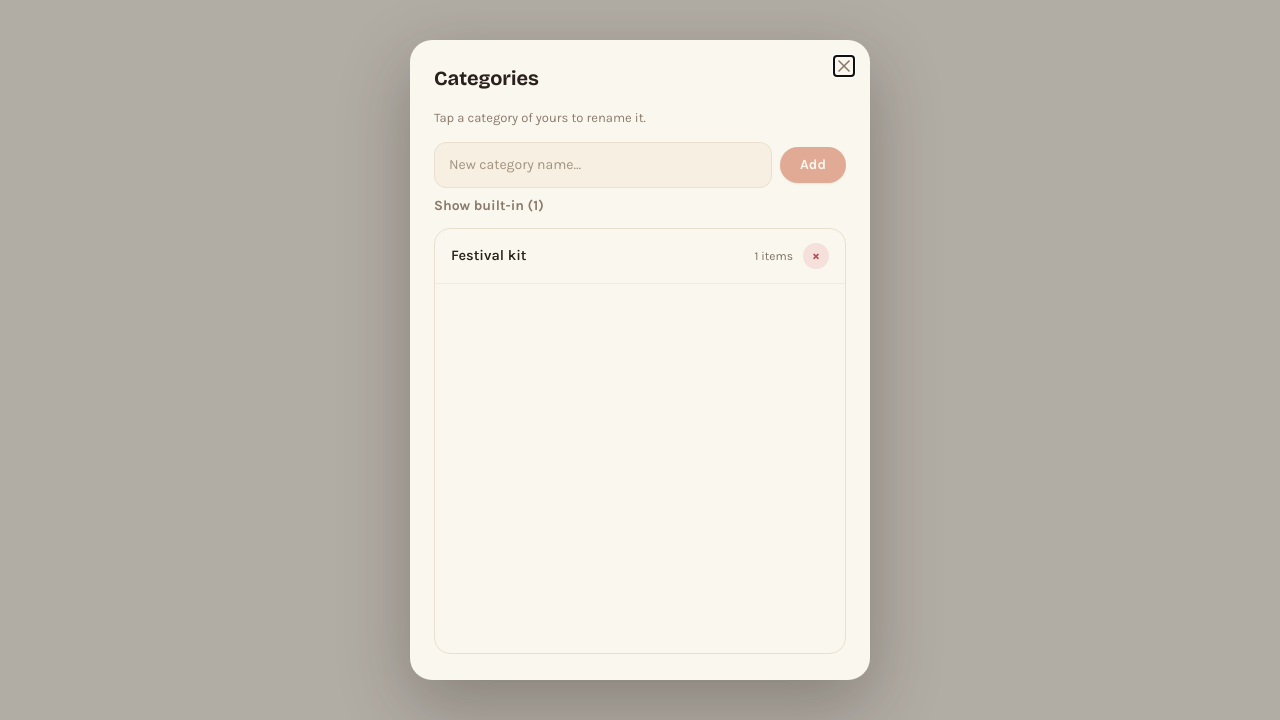
Test: CategoriesModal › clicking a user-owned row enters rename mode, hiding its delete icon; clicking another row switches which one is renaming
Click the text "Festival kit": [489, 255] box x1=451 y1=247 x2=526 y2=264
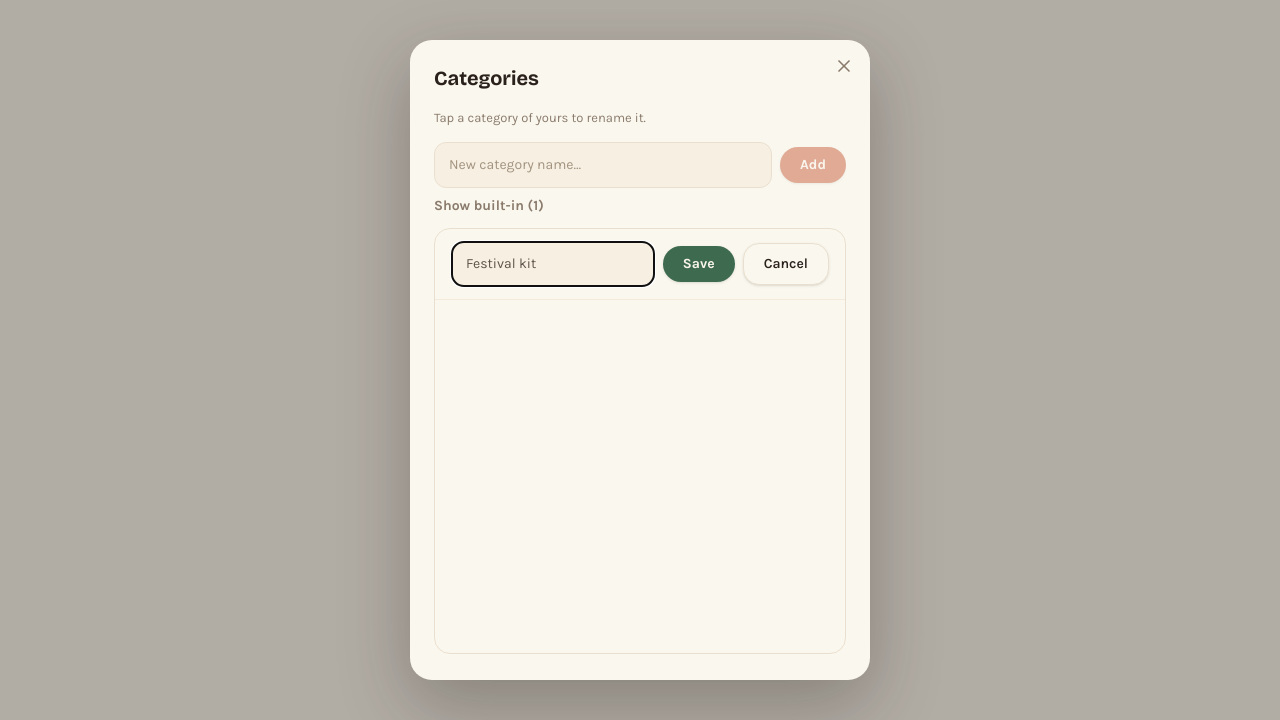
Expected: the field with placeholder "Category name" holds "Festival kit", x1=451 y1=240 x2=655 y2=286
Expected: the button "Save" is shown, x1=663 y1=246 x2=735 y2=282
